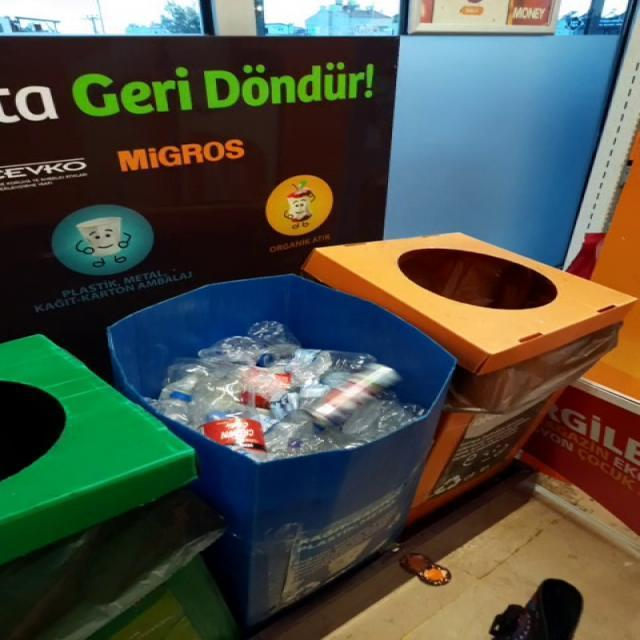Bin: (108, 234, 636, 625)
Metal: (308, 364, 401, 427)
